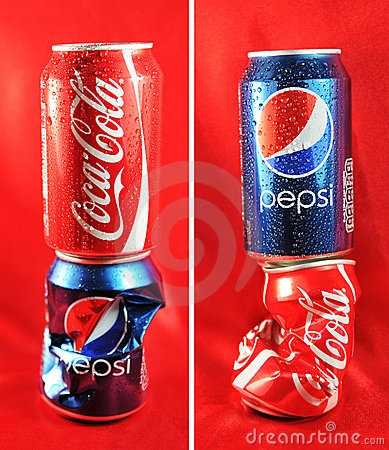can: (232, 43, 376, 265), (35, 35, 162, 263), (239, 260, 365, 432), (37, 257, 162, 430)
